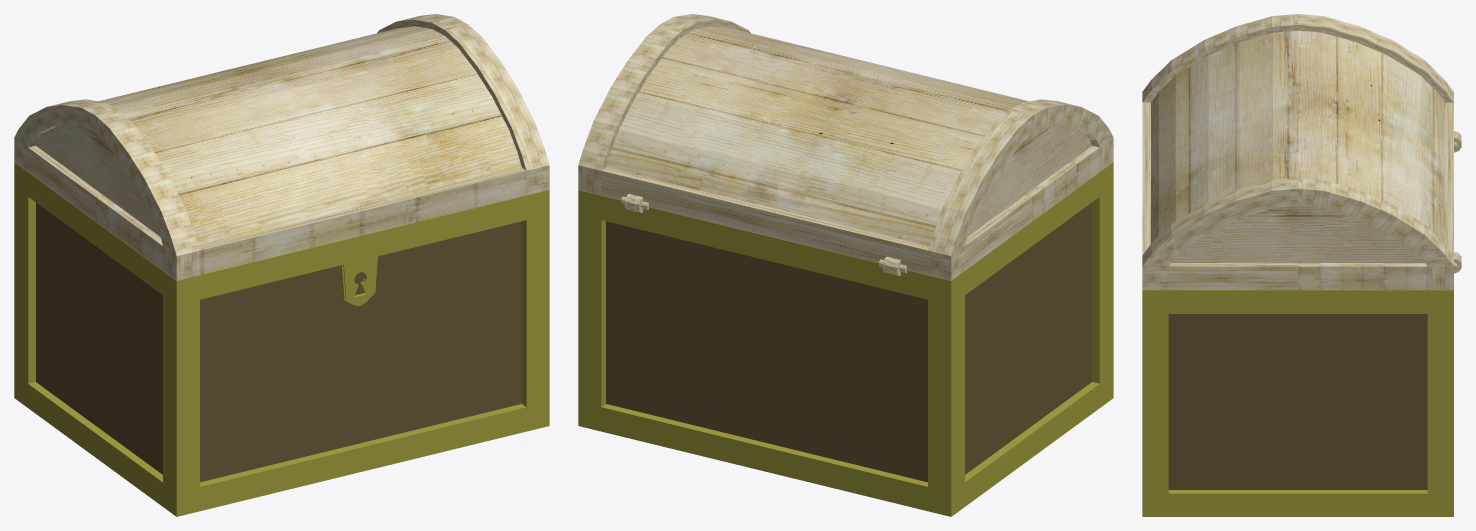
Rendered from Chest@ChestTopAnim.fbx.
3 renders of one model, left to right at view 1: azimuth 30°, elevation 25°; view 2: azimuth 150°, elevation 25°; view 3: azimuth 270°, elevation 25°, orthographic. The views are drawn at different scales.
Visible parts, largest first — view 1: chest_bottom, chest_top; view 2: chest_bottom, chest_top; view 3: chest_top, chest_bottom.
Boxes of the visible parts, box(x1,y1,x2,y2) form: chest_bottom: box(14, 162, 549, 516); chest_top: box(14, 14, 549, 280); chest_bottom: box(578, 162, 1113, 516); chest_top: box(578, 14, 1113, 280); chest_top: box(1142, 14, 1461, 289); chest_bottom: box(1142, 290, 1453, 516).
Bounding box in the file's own units: 2.4 × 2.1 × 1.85.
